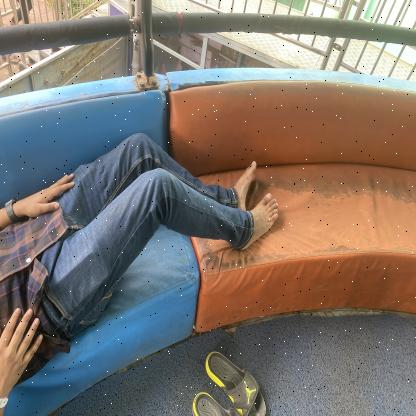hand: (0, 164, 85, 226), (0, 300, 51, 398)
leg: (214, 194, 293, 254), (212, 148, 262, 211)
